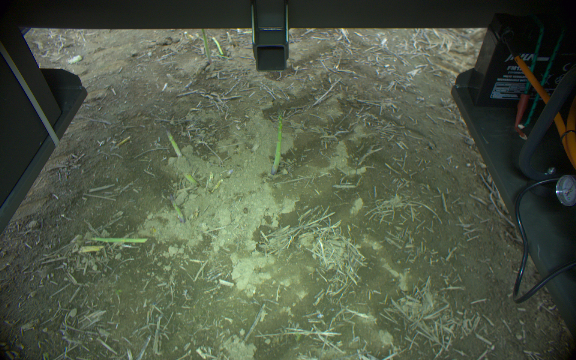aspa: (267, 110, 284, 175), (165, 190, 187, 224), (86, 235, 147, 246), (164, 127, 182, 157), (177, 168, 200, 187), (201, 28, 212, 62), (210, 36, 224, 58)
